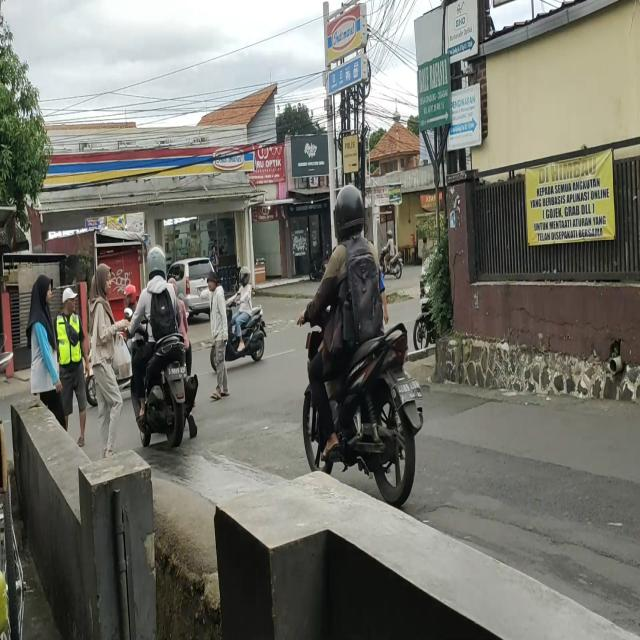helmet: (336, 188, 366, 238), (147, 245, 168, 280), (122, 280, 136, 306), (240, 267, 252, 286)
